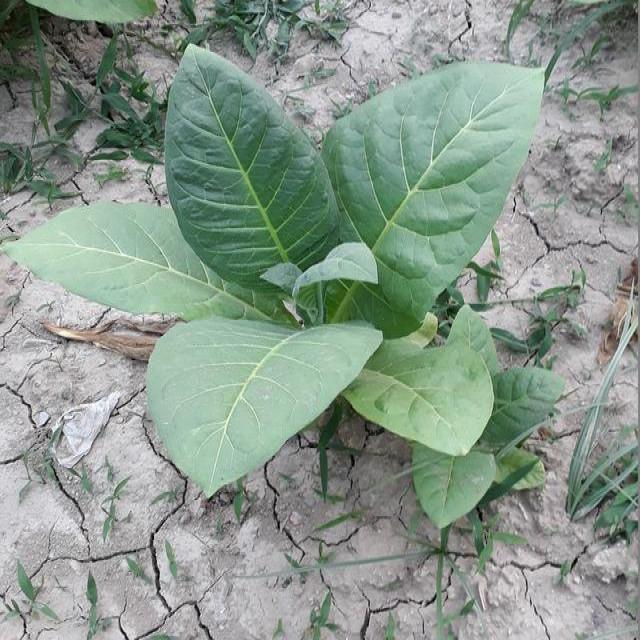crop: (0, 42, 551, 526)
